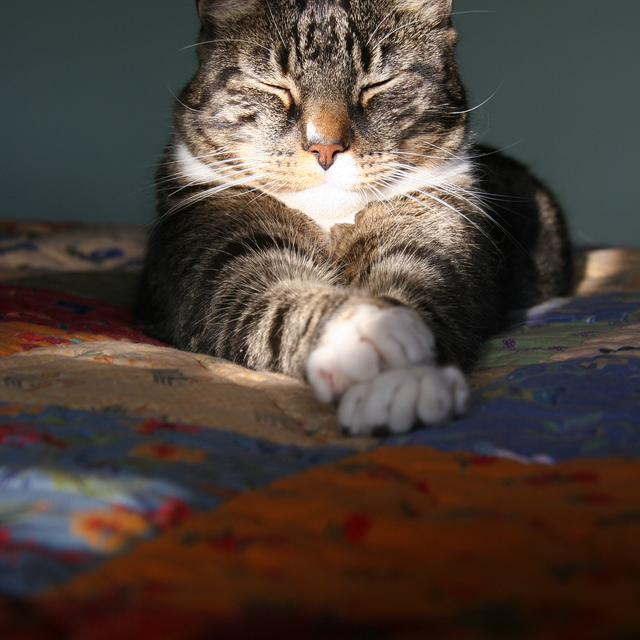animals: (199, 0, 447, 166)
